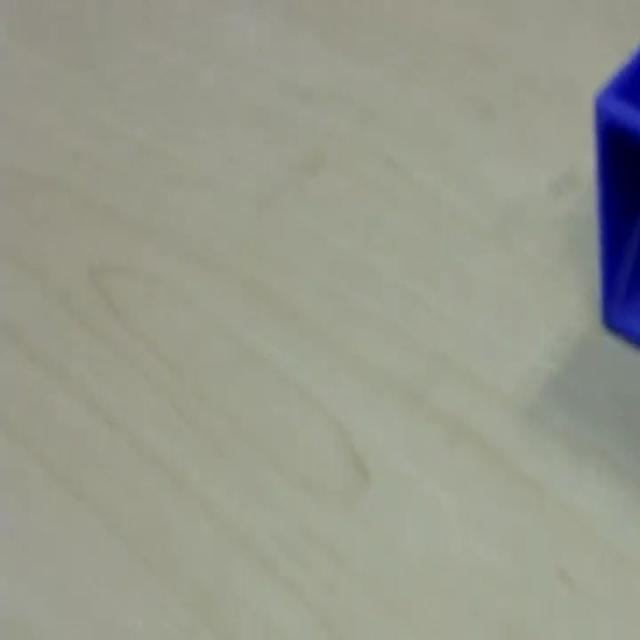blue_block: (592, 41, 638, 347)
